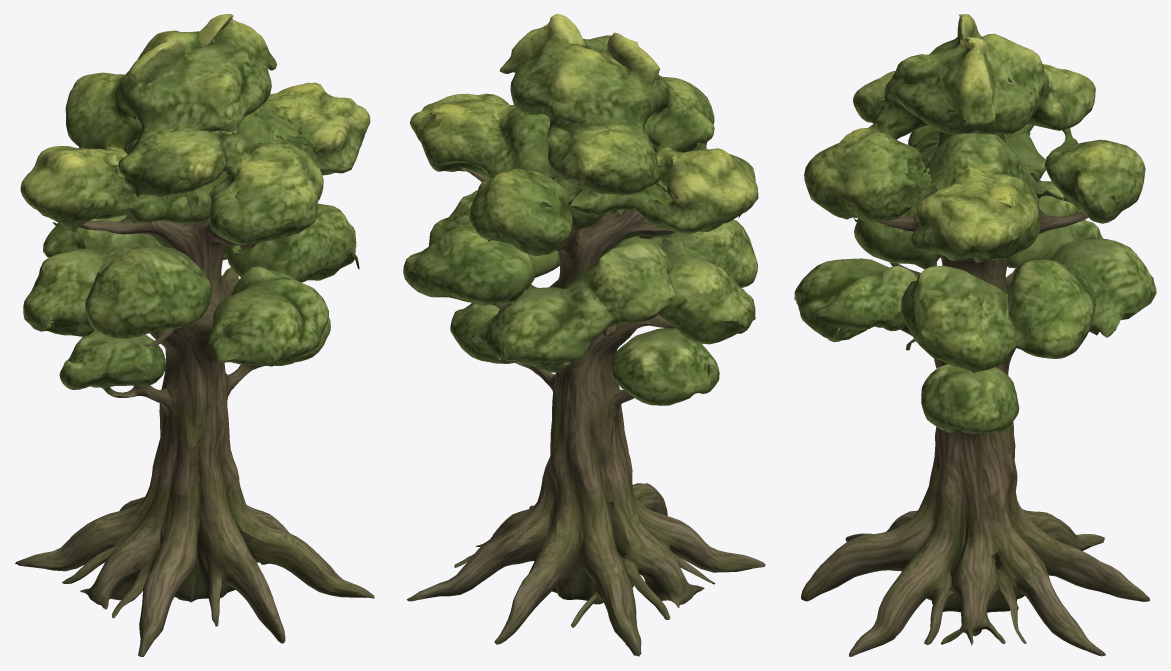
File: meadows_grove_oak_a.glb
The picture shows the model from 3 angles, left to right: view 1: azimuth 30°, elevation 25°; view 2: azimuth 150°, elevation 25°; view 3: azimuth 270°, elevation 25°; orthographic projection. The views are drawn at different scales.
Visible parts, largest first — view 1: Mesh_0; view 2: Mesh_0; view 3: Mesh_0.
Boxes of the visible parts, x1,y1,x2,y2 form: Mesh_0: (14,14,374,656); Mesh_0: (403,14,765,656); Mesh_0: (794,14,1156,656).
Bounding box in the file's own units: 1.19 × 1.9 × 1.08.
Materials: 1 (1 with a texture image).
